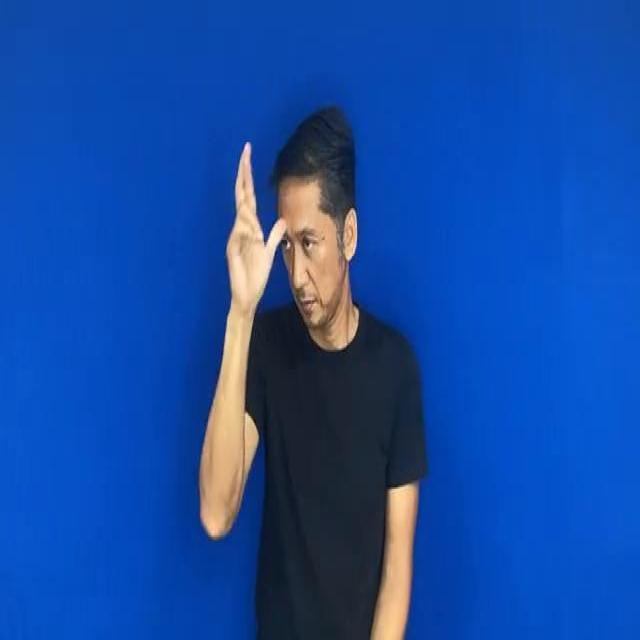chicken: (214, 130, 284, 315)
